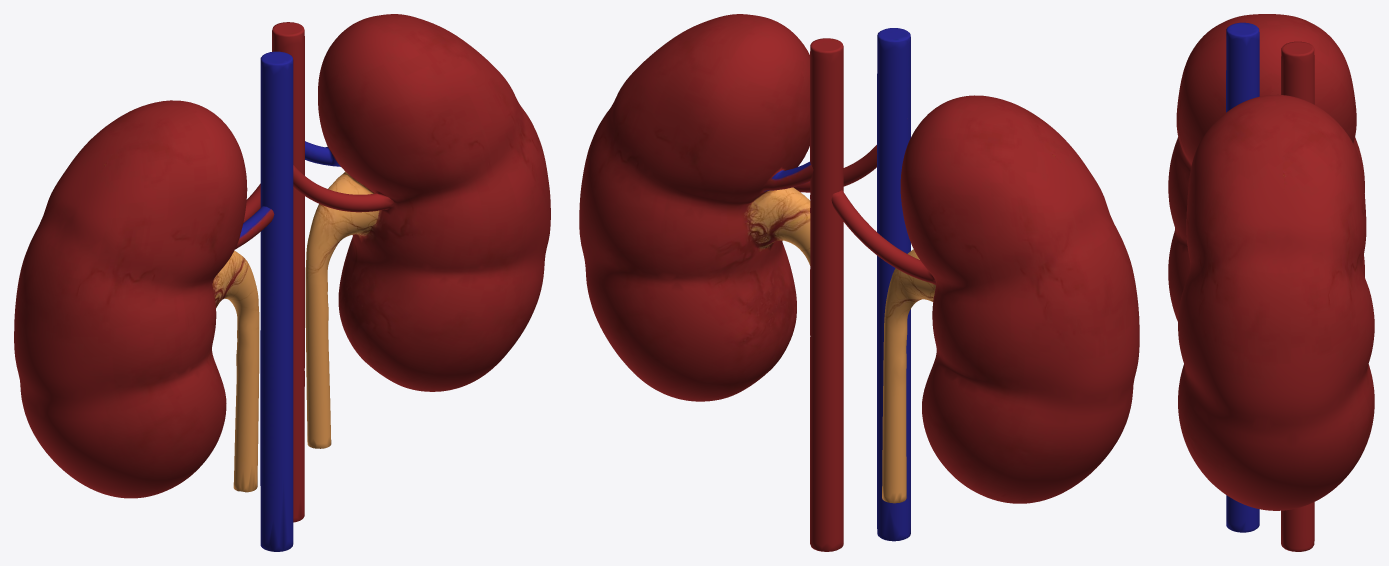
Rendered from human_kidney.glb.
3 views of the same model, side by side, from view 1: azimuth 30°, elevation 25°; view 2: azimuth 150°, elevation 25°; view 3: azimuth 270°, elevation 25° (orthographic). The views are drawn at different scales.
Visible parts, largest first — view 1: kidney02:kidney03:Group12708, Group12708; view 2: kidney02:kidney03:Group12708, Group12708; view 3: Group12708, kidney02:kidney03:Group12708.
Part boxes in pixels (<box>): kidney02:kidney03:Group12708: <box>14,22,304,551</box>; Group12708: <box>293,14,550,448</box>; kidney02:kidney03:Group12708: <box>810,28,1139,551</box>; Group12708: <box>579,14,877,401</box>; Group12708: <box>1178,94,1374,510</box>; kidney02:kidney03:Group12708: <box>1168,14,1364,551</box>.
Bounding box in the file's own units: 1.72 × 1.55 × 0.5823.
Materials: 1 (1 with a texture image).
